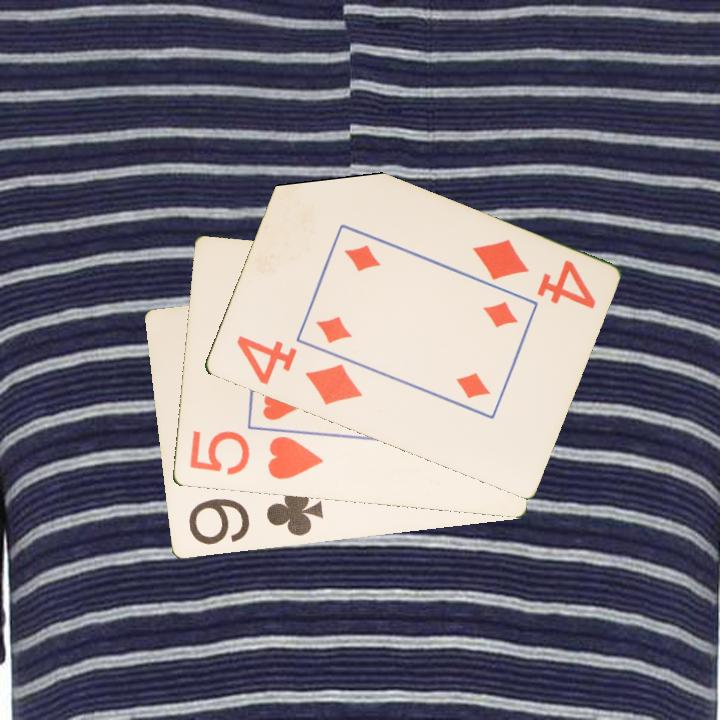4d: (467, 235, 599, 313), (232, 332, 365, 409)
5h: (185, 427, 326, 483)
9c: (184, 484, 326, 548)
